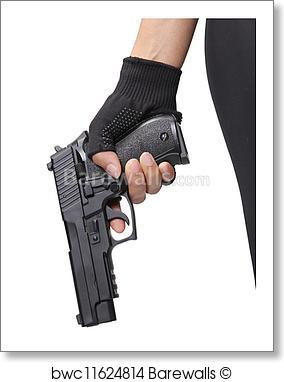pistol: (23, 107, 206, 338)
